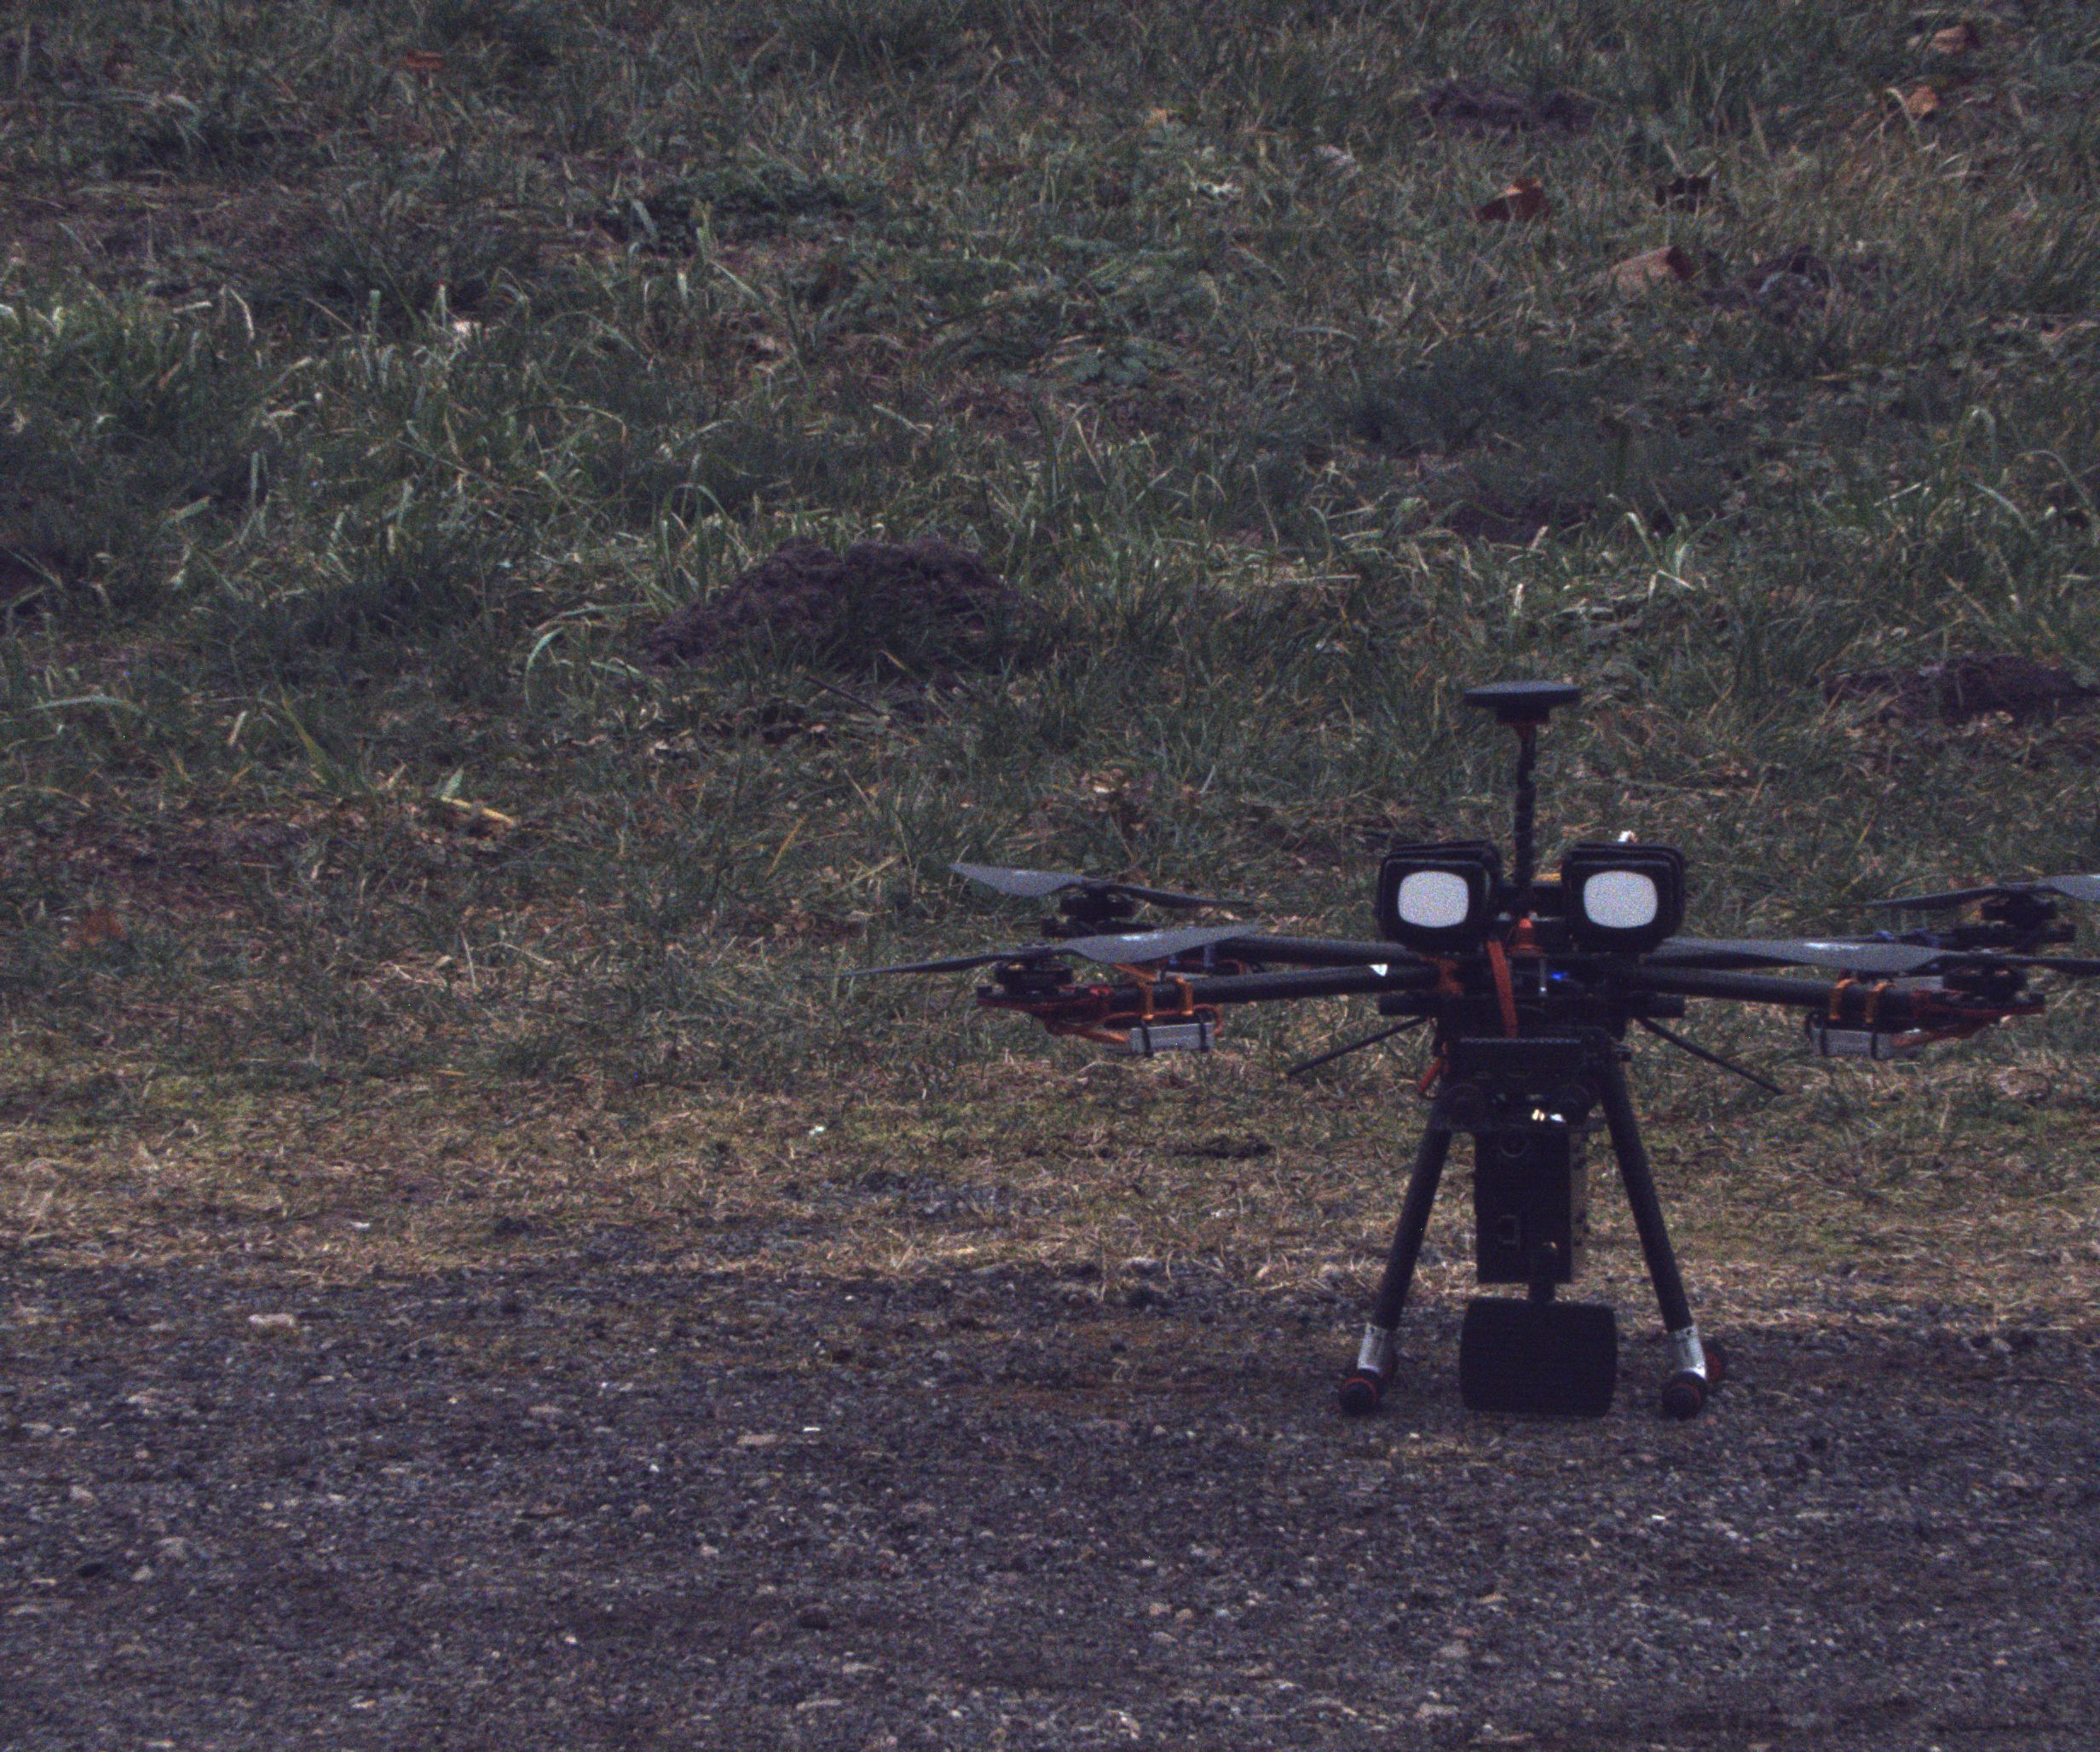Drohne: (837, 659, 2100, 1517)
